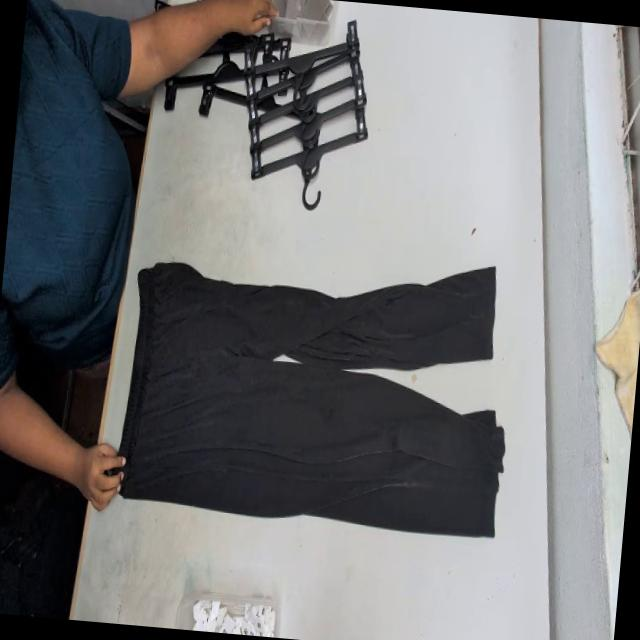new-garment: (118, 263, 504, 535)
